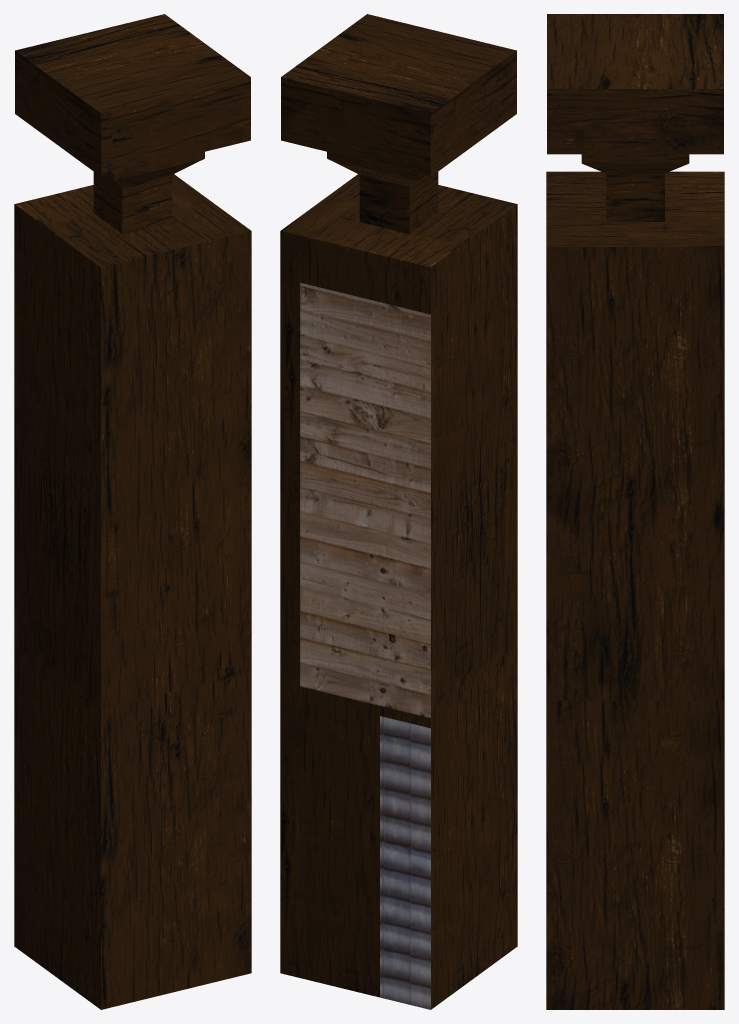
File: NNJ0510073.fbx
The picture shows the model from 3 angles, left to right: view 1: azimuth 30°, elevation 25°; view 2: azimuth 150°, elevation 25°; view 3: azimuth 270°, elevation 25°; orthographic projection. The views are drawn at different scales.
Parts seen in each view (by area): view 1: smNNJ0510073; view 2: smNNJ0510073; view 3: smNNJ0510073.
Boxes of the visible parts, x1,y1,x2,y2 form: smNNJ0510073: (14, 14, 251, 1009); smNNJ0510073: (280, 14, 517, 1009); smNNJ0510073: (546, 14, 724, 1009).
Size of the model in its own units: 68.47 by 390 by 68.31.
1 material, 1 textured.
